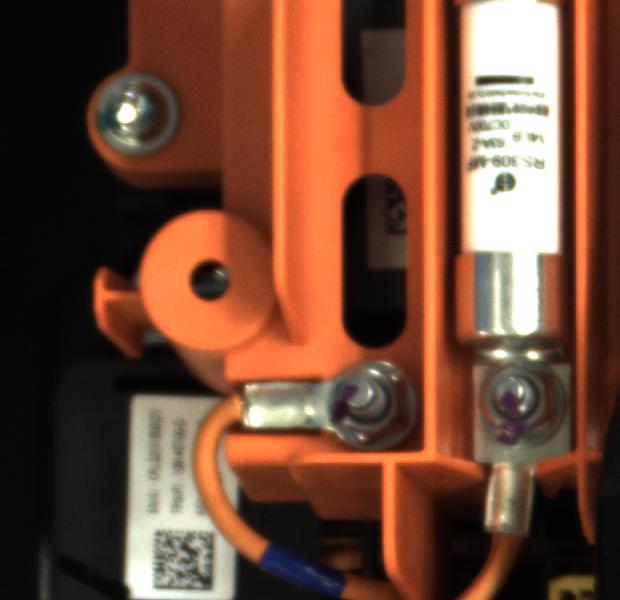screw_m: (85, 68, 186, 161)
screw_s: (472, 357, 564, 440), (322, 356, 409, 442)
